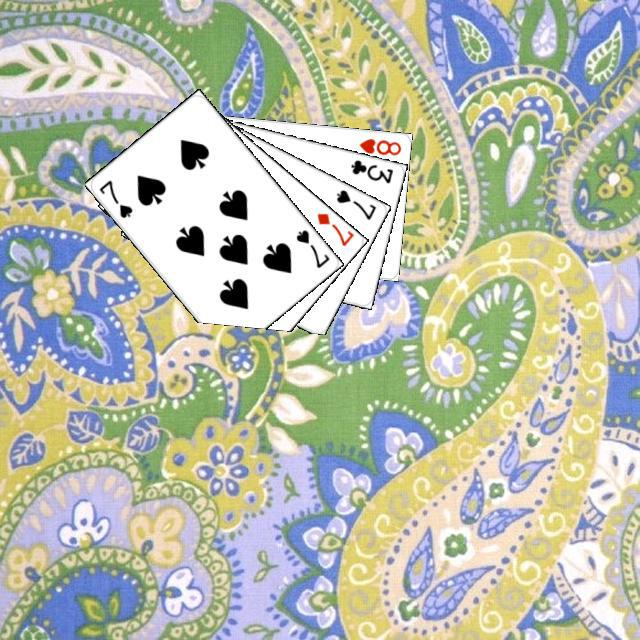3c: (346, 155, 395, 185)
7d: (312, 208, 355, 248)
7s: (291, 224, 331, 270), (94, 175, 134, 220), (331, 185, 378, 221)
8h: (355, 134, 403, 157)
